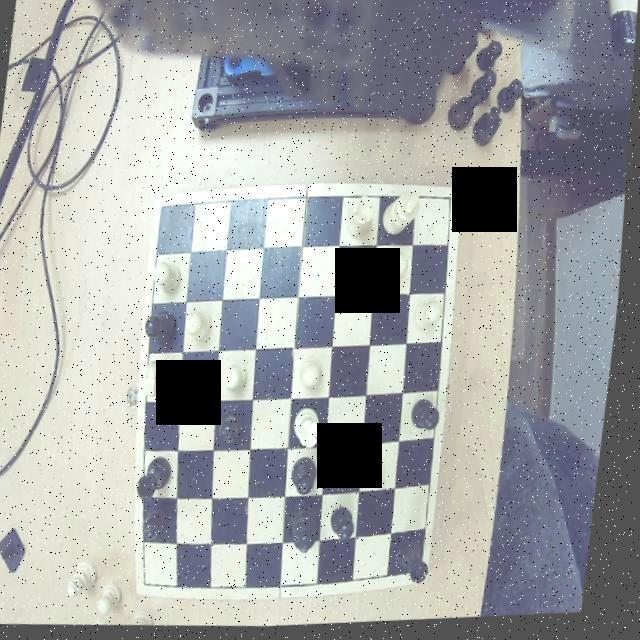chess-table-corners: (157, 198, 180, 225), (439, 191, 463, 216), (419, 558, 438, 588), (147, 574, 168, 598)
